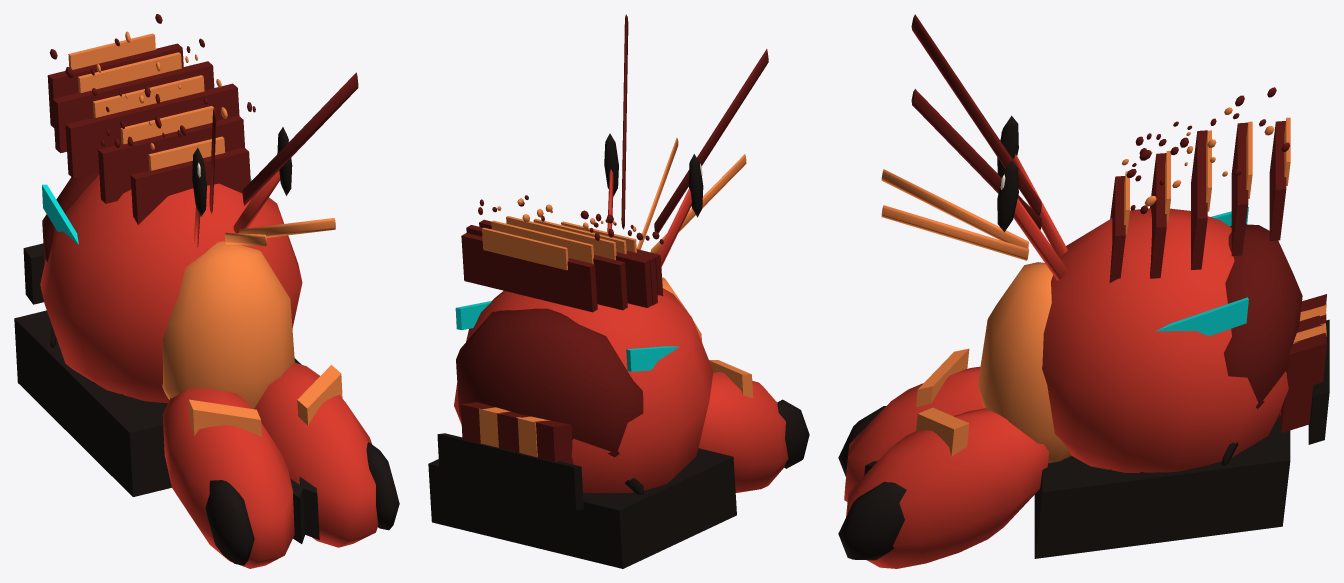
The model's file is fallback_snap_back_v12_COLOR_FIXED_LOCKED_SIZE.glb.
The picture shows the model from 3 angles, left to right: view 1: azimuth 30°, elevation 25°; view 2: azimuth 150°, elevation 25°; view 3: azimuth 270°, elevation 25°; orthographic projection. The views are drawn at different scales.
Parts seen in each view (by area): view 1: SnapBack_v10_LOCKED_WORKING_SIZE_Handle; view 2: SnapBack_v10_LOCKED_WORKING_SIZE_Handle; view 3: SnapBack_v10_LOCKED_WORKING_SIZE_Handle.
Boxes of the visible parts, box(x1,y1,x2,y2) form: SnapBack_v10_LOCKED_WORKING_SIZE_Handle: box(14, 14, 399, 568); SnapBack_v10_LOCKED_WORKING_SIZE_Handle: box(428, 14, 809, 568); SnapBack_v10_LOCKED_WORKING_SIZE_Handle: box(838, 14, 1329, 568).
Bounding box in the file's own units: 0.00936 × 0.0181 × 0.0165.
Materials: 1 (1 with a texture image).
